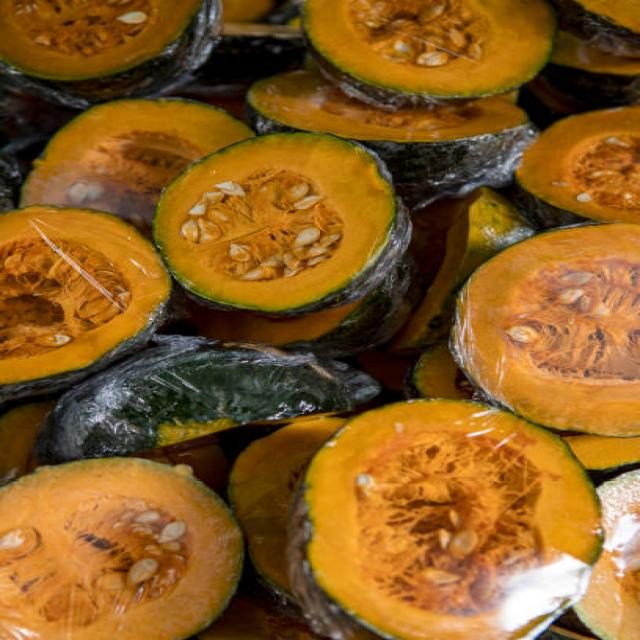Pumpkin: (309, 402, 605, 640), (0, 459, 245, 640), (167, 134, 407, 317), (461, 224, 640, 433), (0, 199, 158, 387), (300, 0, 562, 92), (0, 0, 233, 90), (539, 103, 640, 225)
